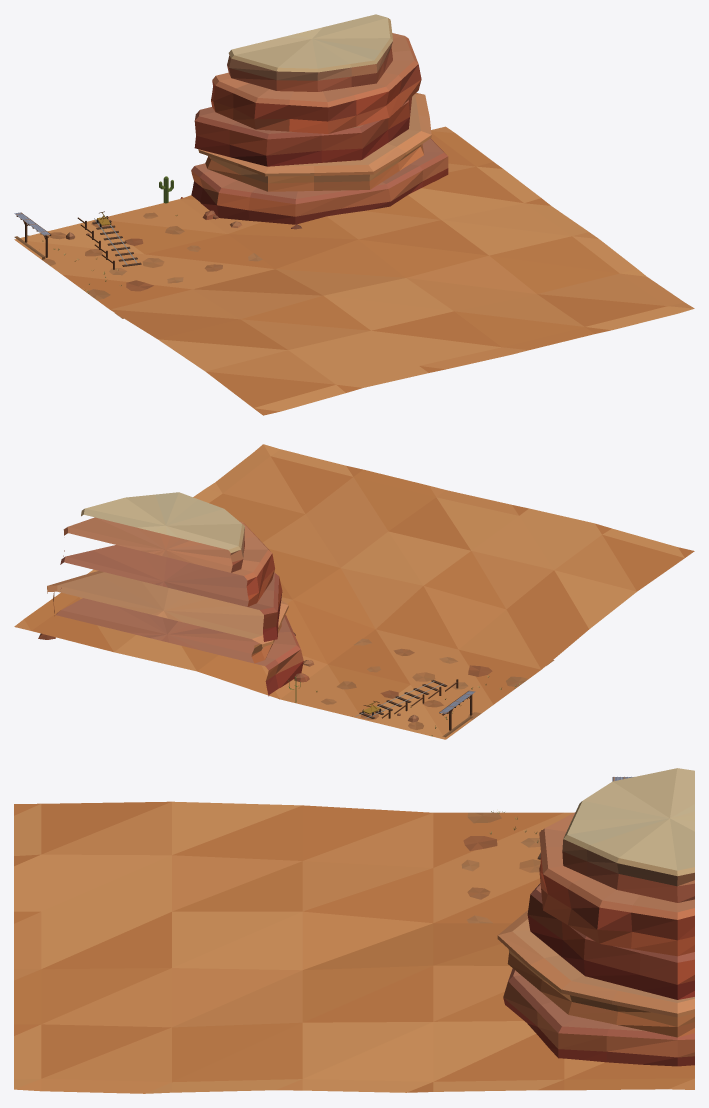
3 views of the same model, one above another, from view 1: azimuth 30°, elevation 25°; view 2: azimuth 150°, elevation 25°; view 3: azimuth 270°, elevation 25° (orthographic). The views are drawn at different scales.
Parts seen in each view (by area): view 1: baked; view 2: baked; view 3: baked.
Boxes of the visible parts, x1=… form: baked: x1=14, y1=14, x2=694, y2=415; baked: x1=14, y1=444, x2=694, y2=739; baked: x1=14, y1=768, x2=694, y2=1093.
Size of the model in its own units: 62.5 by 18.99 by 62.5.
